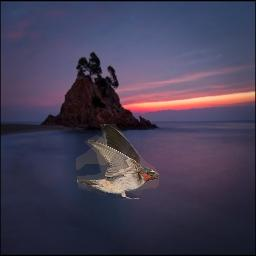Swallow: (76, 124, 159, 200)
